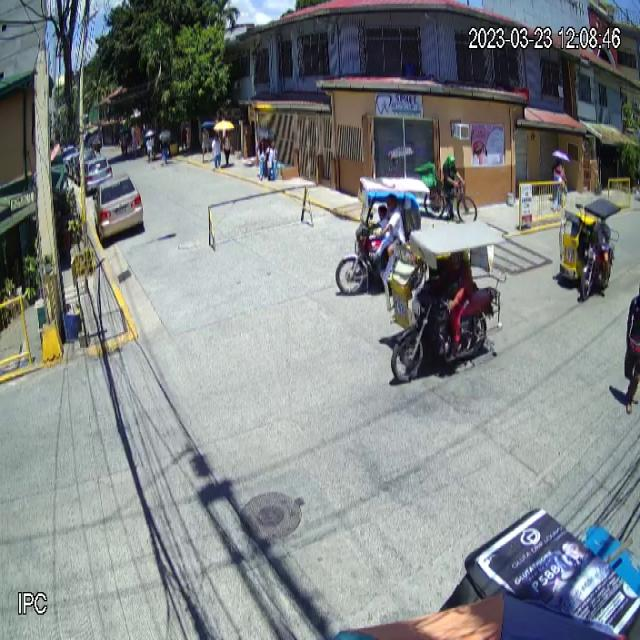Car: (94, 174, 144, 245)
Tricycle: (384, 224, 508, 386), (334, 176, 430, 298), (558, 199, 622, 302)
